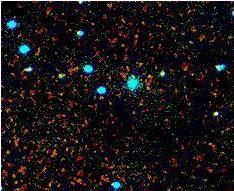star: (118, 59, 148, 89)
